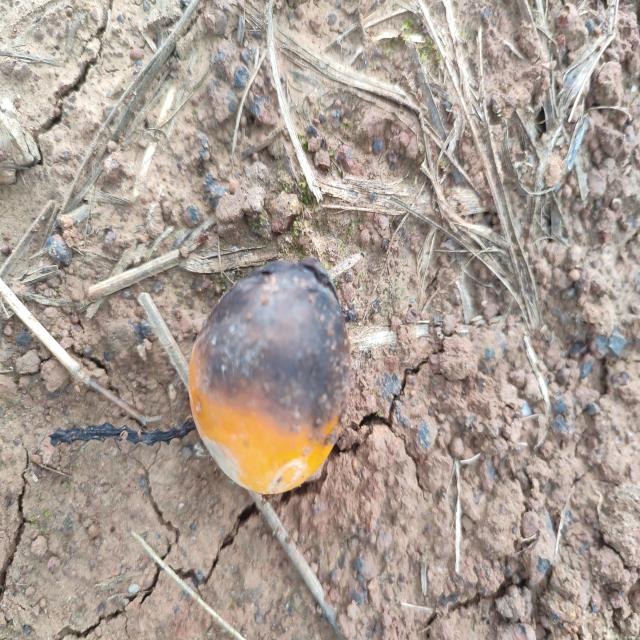damaged: (186, 260, 351, 500)
